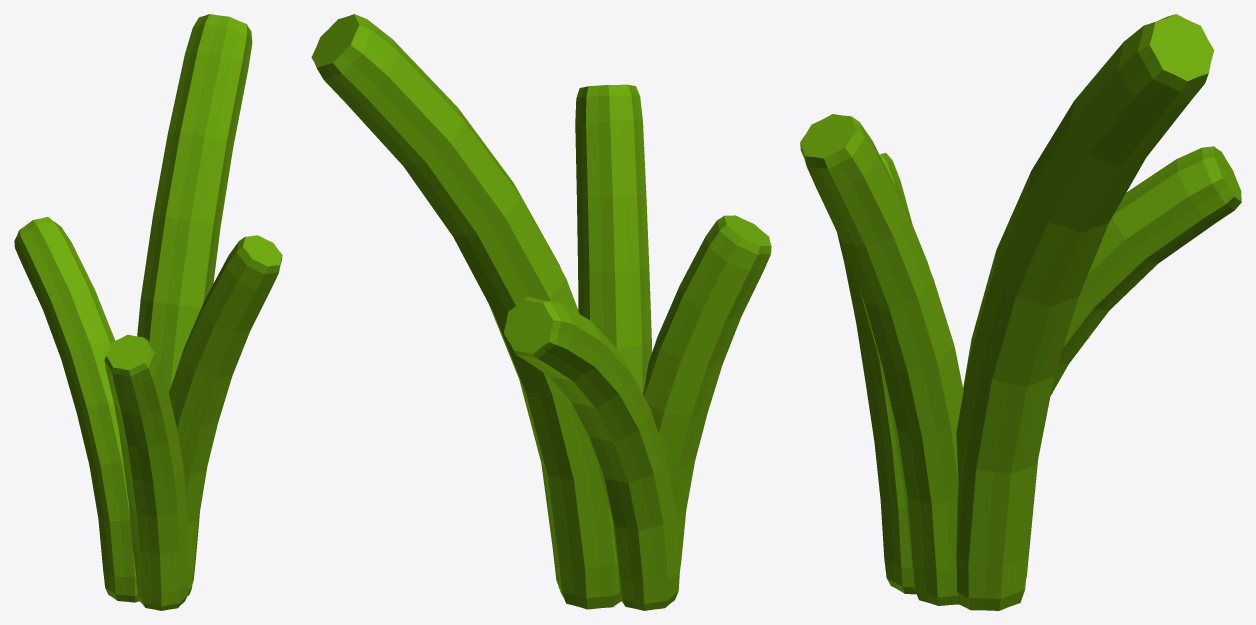
File: Cactus_05_A.fbx
3 renders of one model, left to right at view 1: azimuth 30°, elevation 25°; view 2: azimuth 150°, elevation 25°; view 3: azimuth 270°, elevation 25°, orthographic. The views are drawn at different scales.
Parts seen in each view (by area): view 1: Cactus_05_A; view 2: Cactus_05_A; view 3: Cactus_05_A.
Part boxes in pixels (x1,y1,x2,y2): Cactus_05_A: (14, 14, 282, 610); Cactus_05_A: (311, 14, 771, 610); Cactus_05_A: (800, 14, 1241, 610).
Size of the model in its own units: 89.96 by 165 by 99.69.
